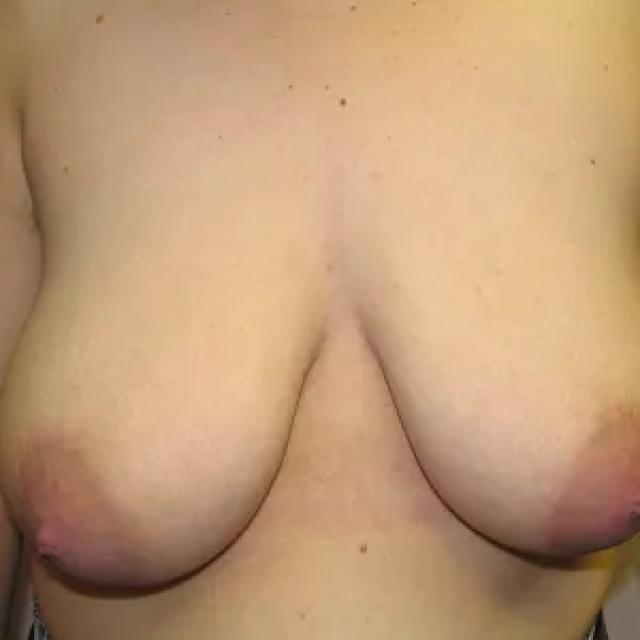Seno ileso: (0, 186, 341, 614), (346, 186, 640, 583)
